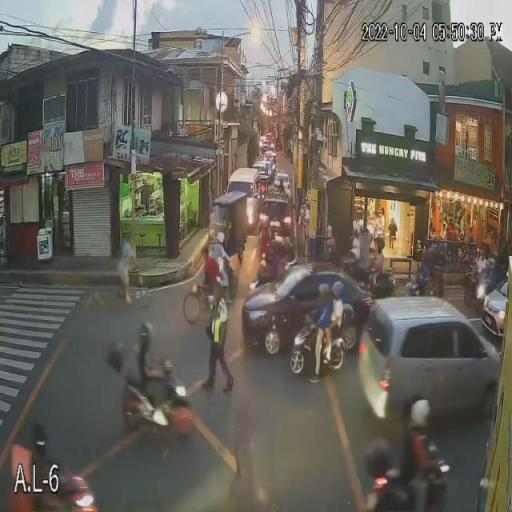helmet: (364, 441, 389, 469), (409, 398, 430, 426), (331, 280, 345, 296), (316, 282, 330, 296), (278, 234, 288, 244), (350, 236, 360, 246), (216, 232, 225, 242)
motorcycle: (116, 359, 194, 441), (362, 452, 446, 512), (0, 463, 101, 512), (286, 320, 346, 377), (362, 261, 397, 298), (259, 244, 292, 283), (411, 262, 448, 296), (466, 266, 494, 308), (216, 258, 238, 302)
rider: (397, 397, 444, 512), (106, 321, 162, 404), (362, 437, 401, 512), (309, 283, 334, 383), (326, 280, 346, 358), (259, 234, 287, 283), (420, 244, 442, 295), (471, 250, 492, 300)
